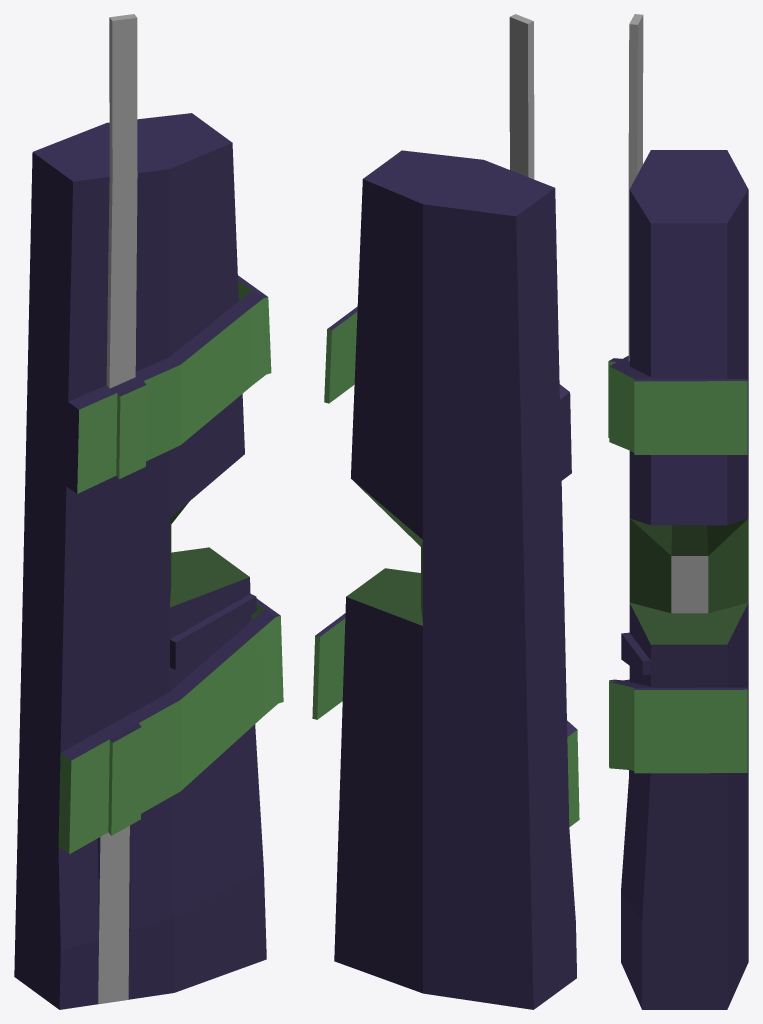
The model's file is citadel 2.fbx.
The picture shows the model from 3 angles, left to right: view 1: azimuth 30°, elevation 25°; view 2: azimuth 150°, elevation 25°; view 3: azimuth 270°, elevation 25°; orthographic projection. The views are drawn at different scales.
Parts seen in each view (by area): view 1: Cube; view 2: Cube; view 3: Cube.
Part boxes in pixels (x1,y1,x2,y2): Cube: [14, 14, 283, 1009]; Cube: [312, 14, 579, 1009]; Cube: [608, 14, 748, 1009].
Size of the model in its own units: 6.26 by 26.64 by 3.66.
